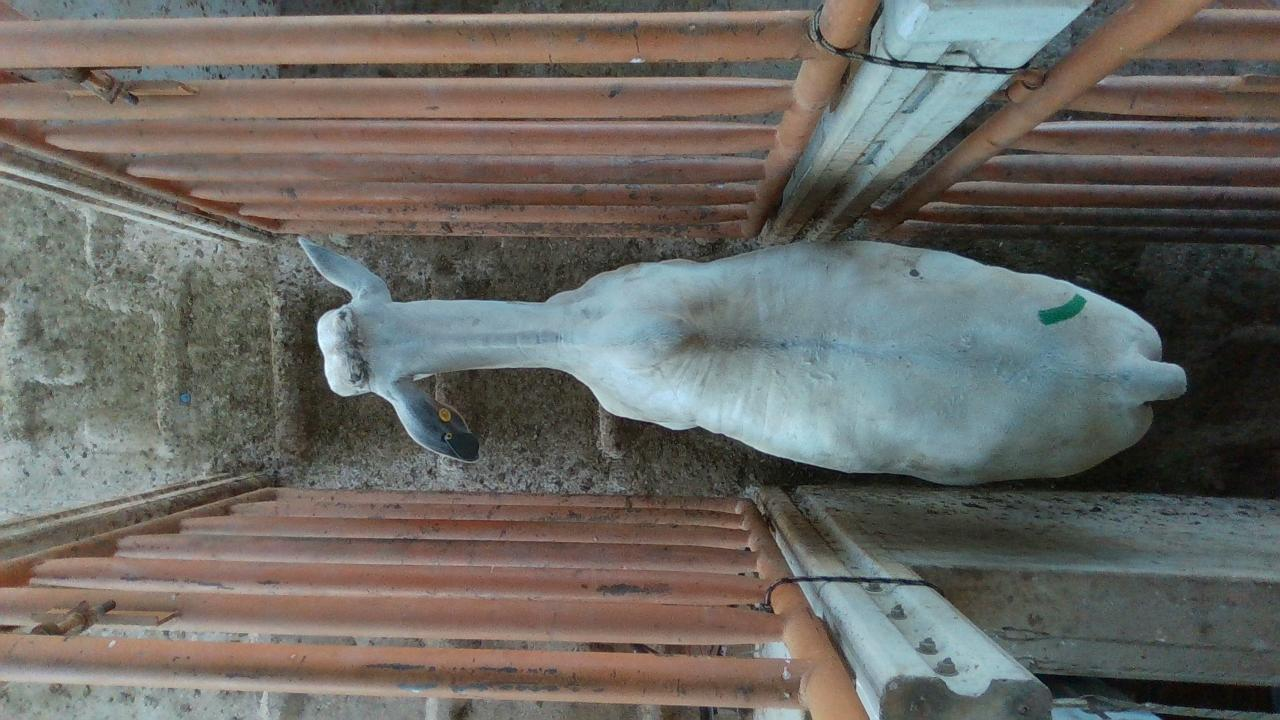cattle: (296, 233, 1188, 486)
